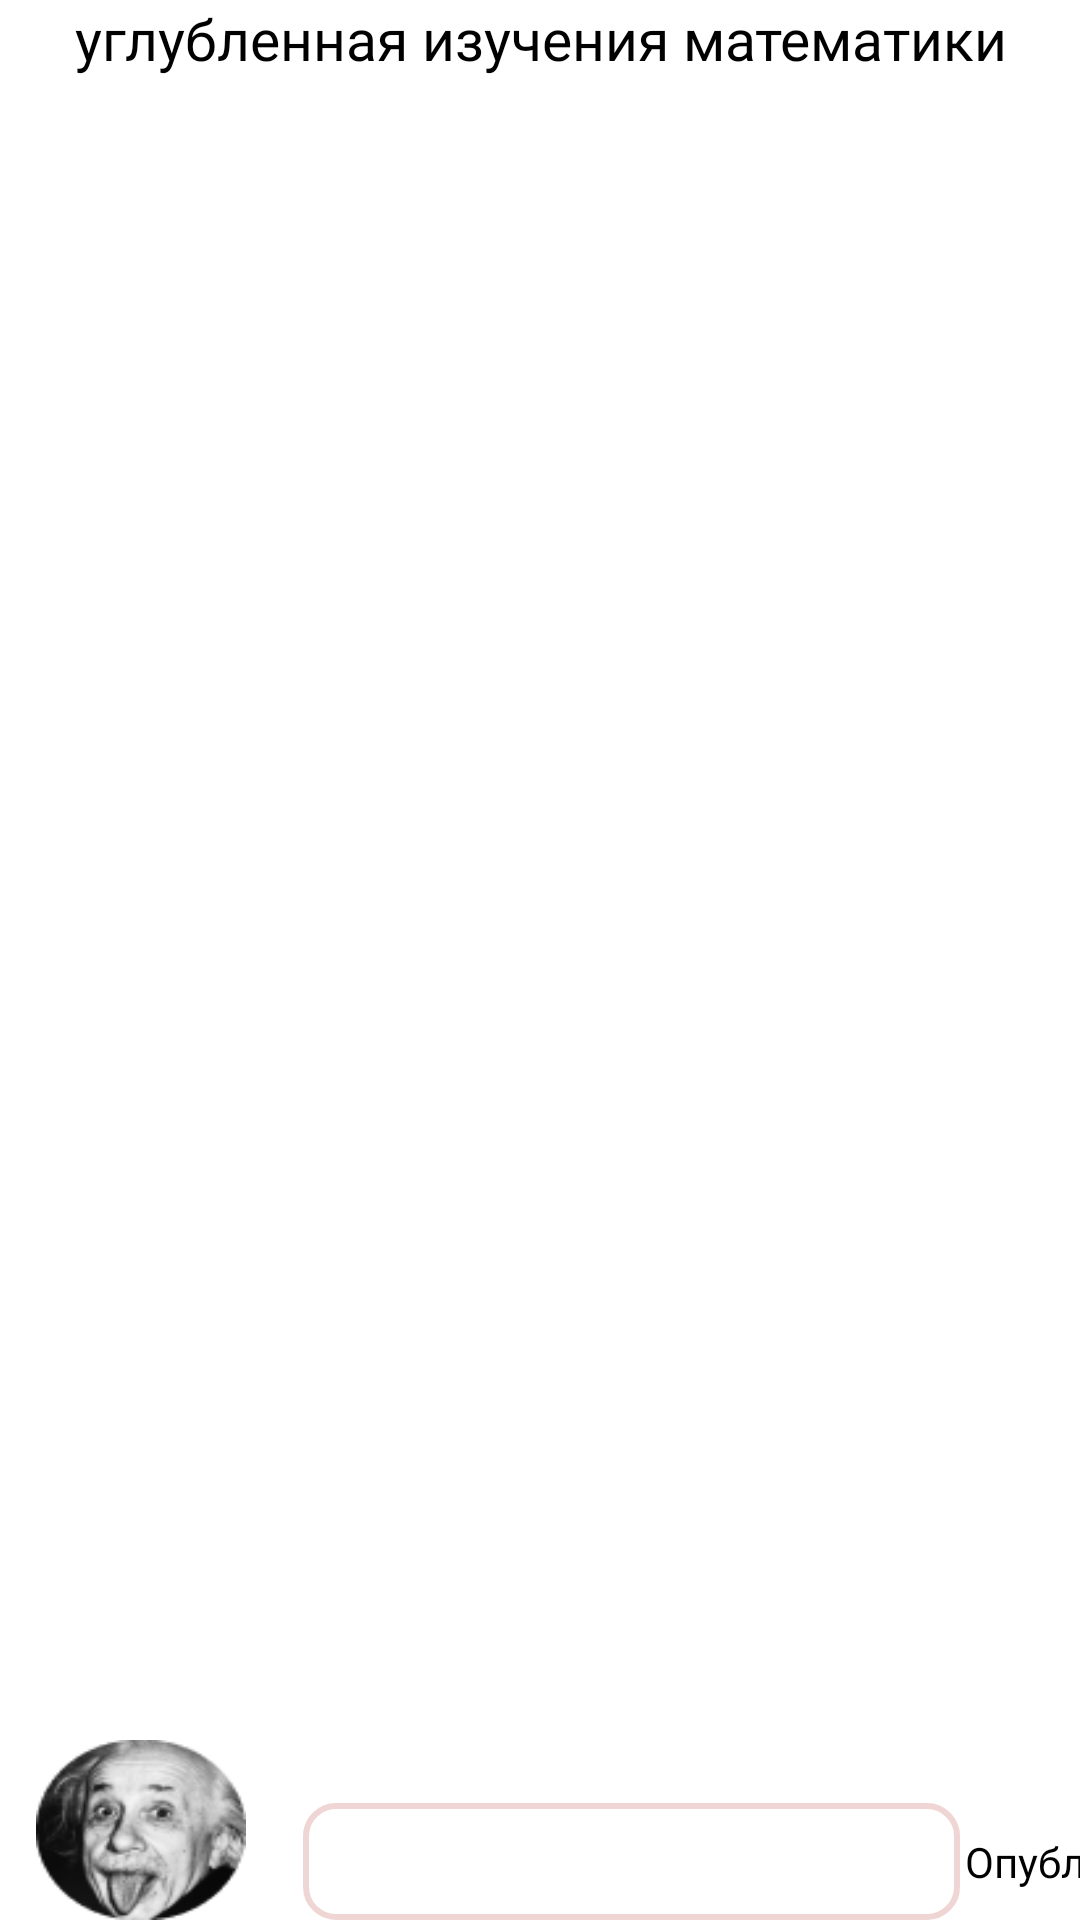

Named icons in this screenshot (1080 x 1920) and their bounding boxes, bbox=[x1, y1, x2, y2]:
user photo: bbox=[36, 1740, 246, 1920]
